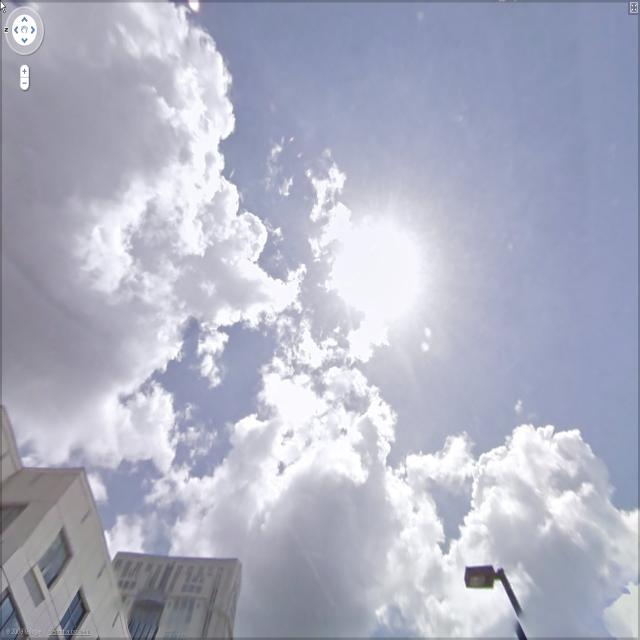b_1: (2, 406, 238, 640)
